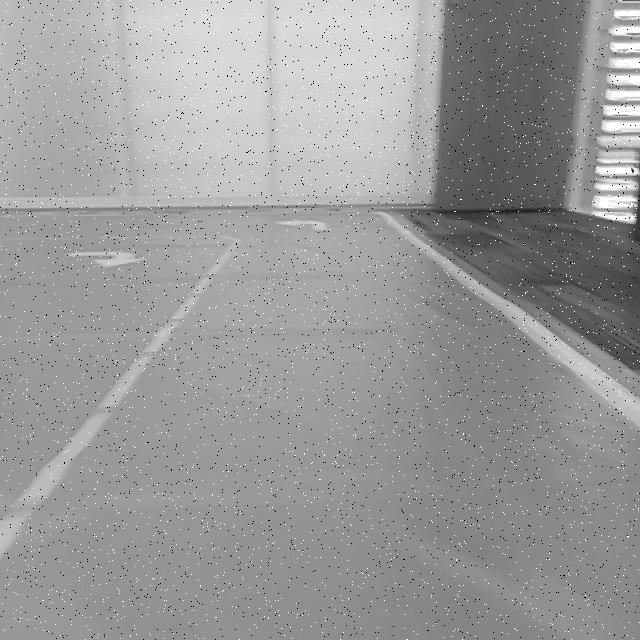left_lane: (0, 244, 238, 561)
right_lane: (382, 216, 640, 432)
